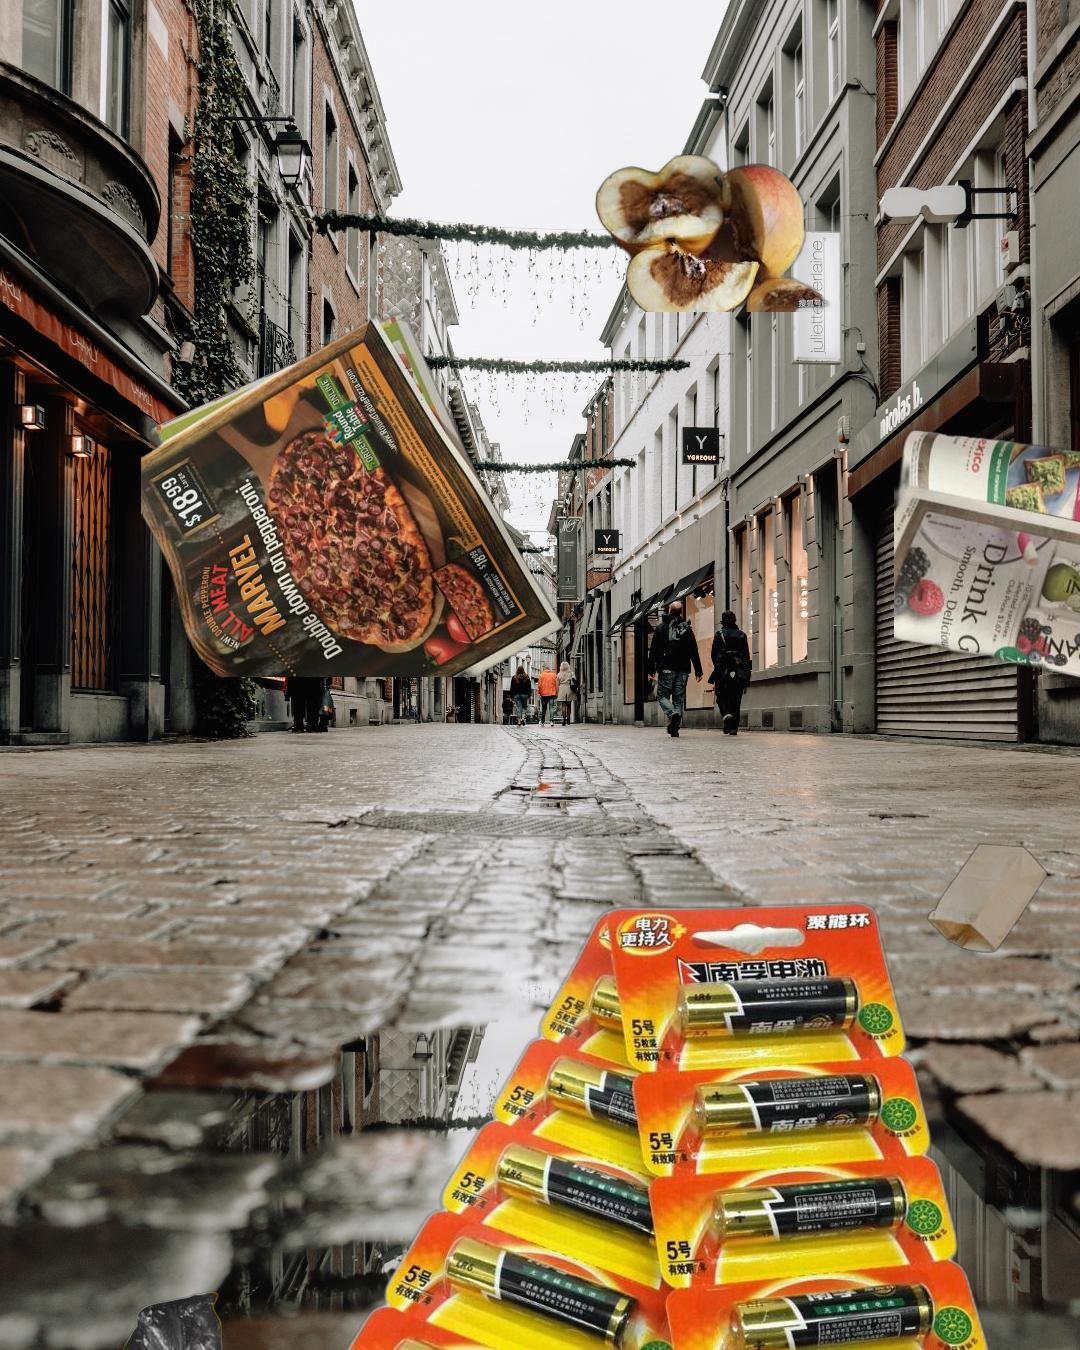battery: (283, 897, 1033, 1350)
biological: (593, 152, 863, 312)
paper: (141, 310, 567, 677), (894, 428, 1080, 746)
paper-bag: (925, 842, 1049, 956)
plastic-bag: (103, 1289, 273, 1350)
shoes: (918, 1335, 1080, 1350)
trashbox-cardboard: (842, 1095, 1080, 1350)
